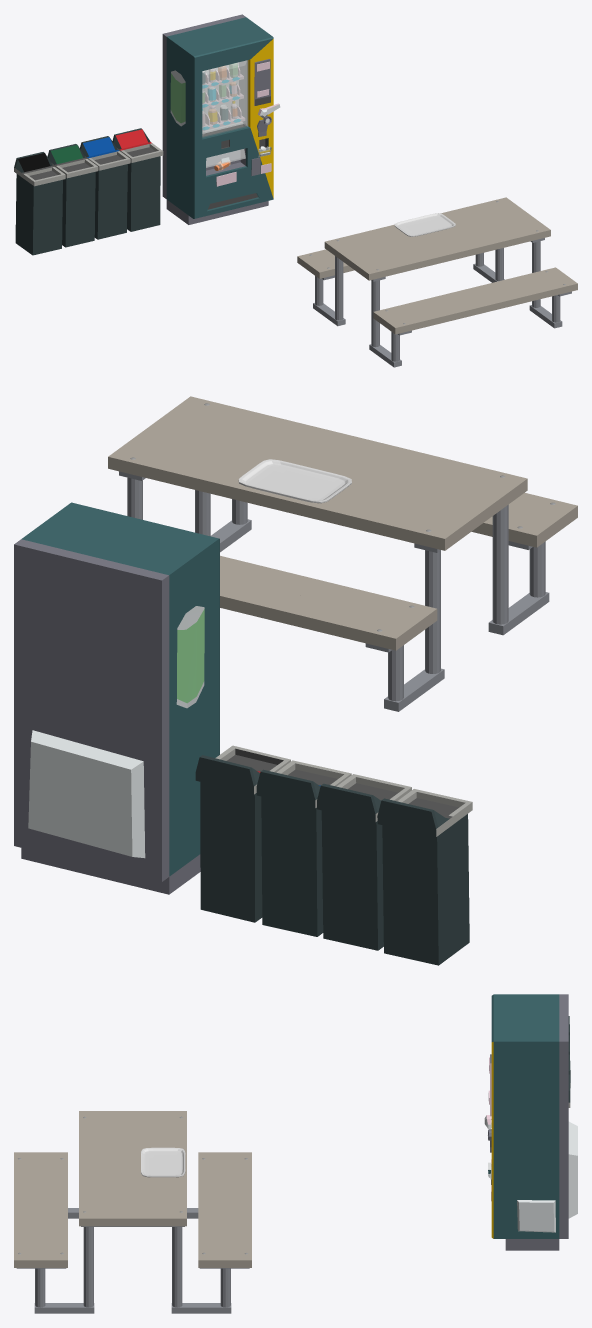
Rendered from Ep1Environment.fbx.
The picture shows the model from 3 angles, top to bottom: view 1: azimuth 30°, elevation 25°; view 2: azimuth 150°, elevation 25°; view 3: azimuth 270°, elevation 25°; orthographic projection. The views are drawn at different scales.
Parts seen in each view (by area): view 1: VendingMachine, Bench, Bins, Tray; view 2: VendingMachine, Bench, Bins, Tray; view 3: Bench, VendingMachine, Tray.
Part boxes in pixels (x1=…): VendingMachine: x1=162, y1=14, x2=280, y2=224; Bench: x1=297, y1=197, x2=577, y2=367; Bins: x1=14, y1=128, x2=163, y2=255; Tray: x1=394, y1=213, x2=455, y2=236; VendingMachine: x1=14, y1=502, x2=219, y2=894; Bench: x1=108, y1=396, x2=577, y2=711; Bins: x1=195, y1=745, x2=472, y2=965; Tray: x1=238, y1=459, x2=351, y2=503; Bench: x1=14, y1=1111, x2=251, y2=1313; VendingMachine: x1=484, y1=994, x2=577, y2=1250; Tray: x1=141, y1=1147, x2=185, y2=1177.
Bounding box in the file's own units: 4276 × 2139 × 5138.
